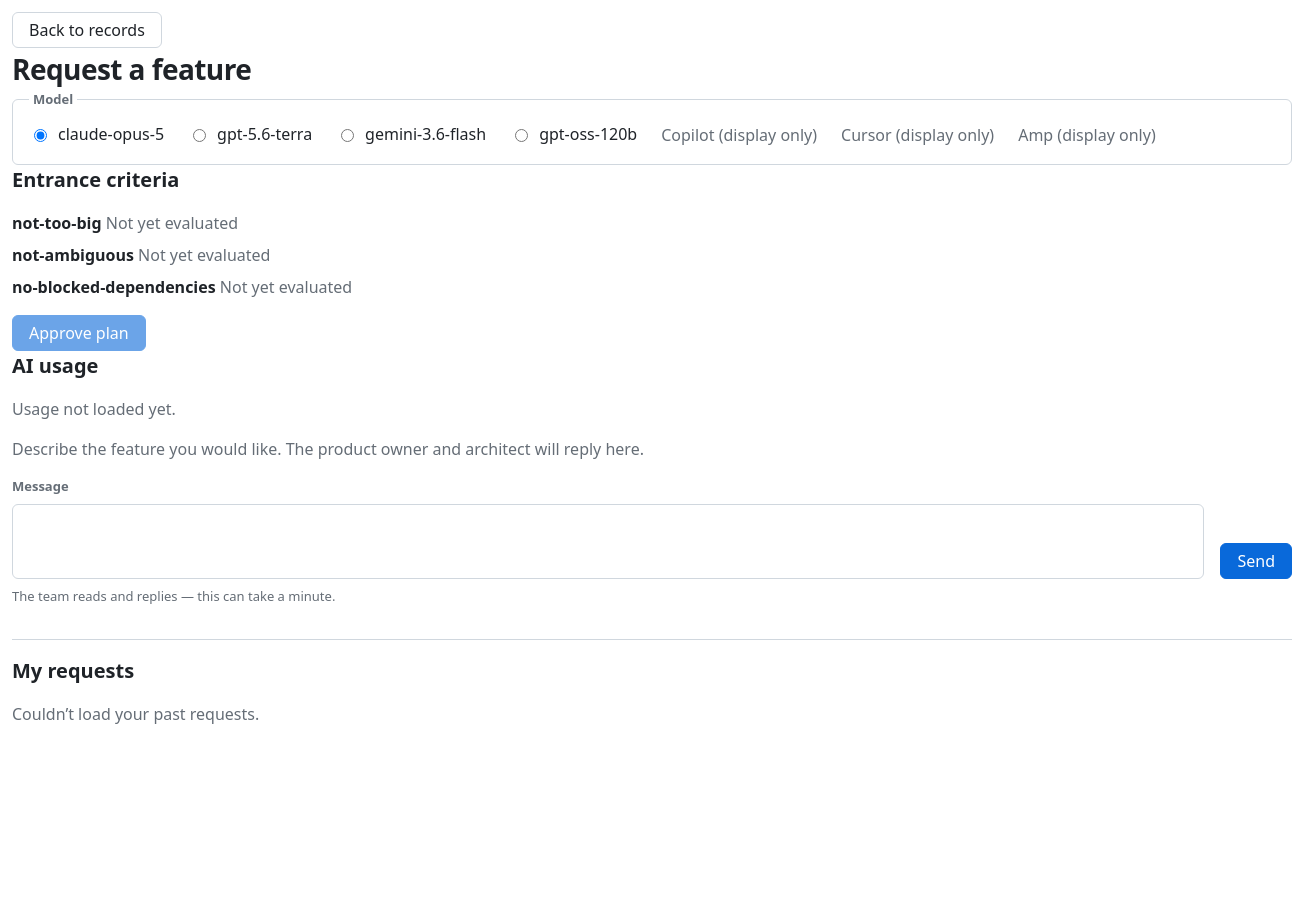
Test case: DAN-76 tester · generic approval failure › shows the exact required copy in a role="alert" panel inside the entrance-criteria region
Type "Add a export button" into the text box labelled "Message".
click(608, 542); type("Add a export button")  # box [12,504,1204,579]
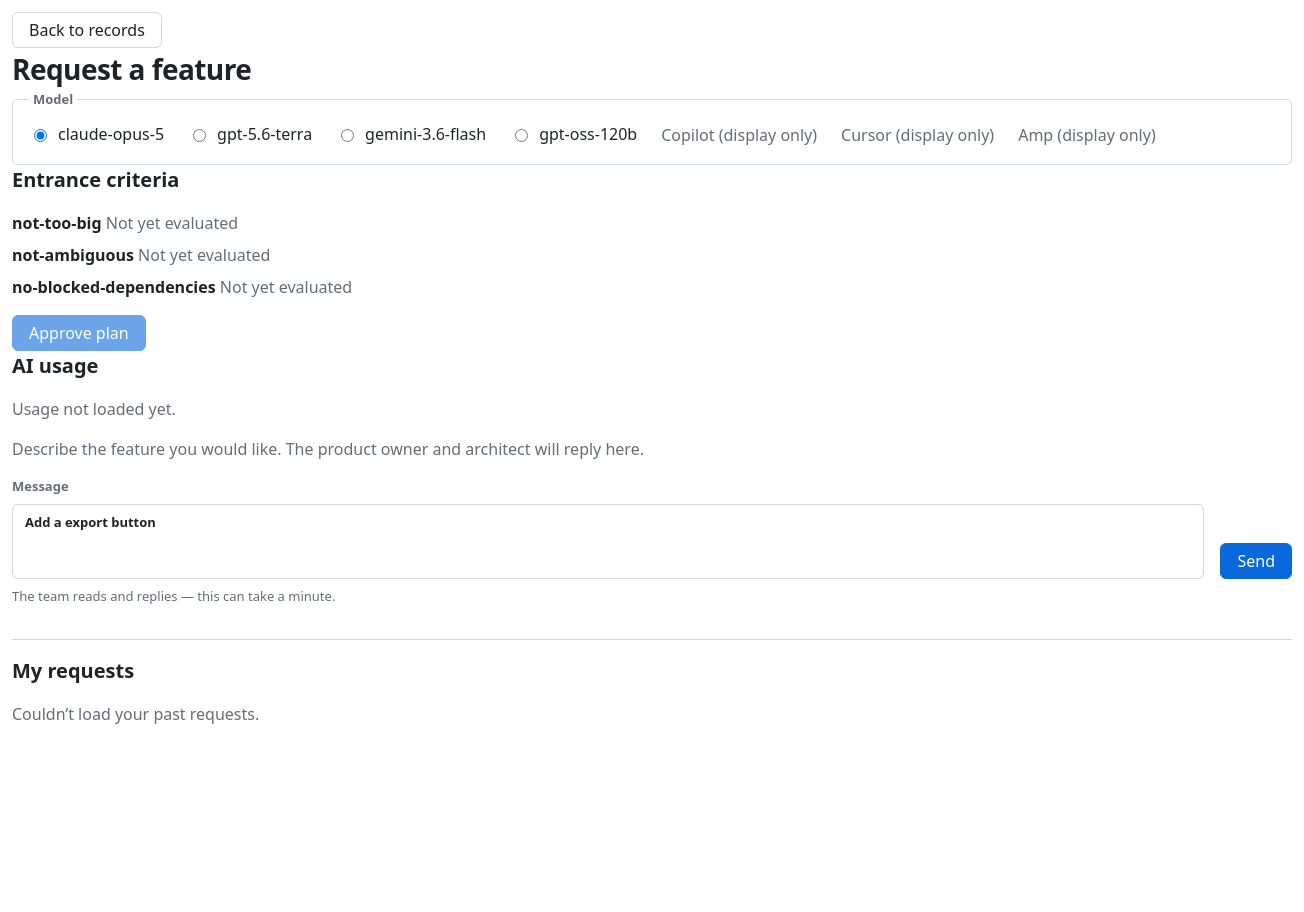
Click the button "Send".
click(1256, 561)  # box [1220,543,1292,579]
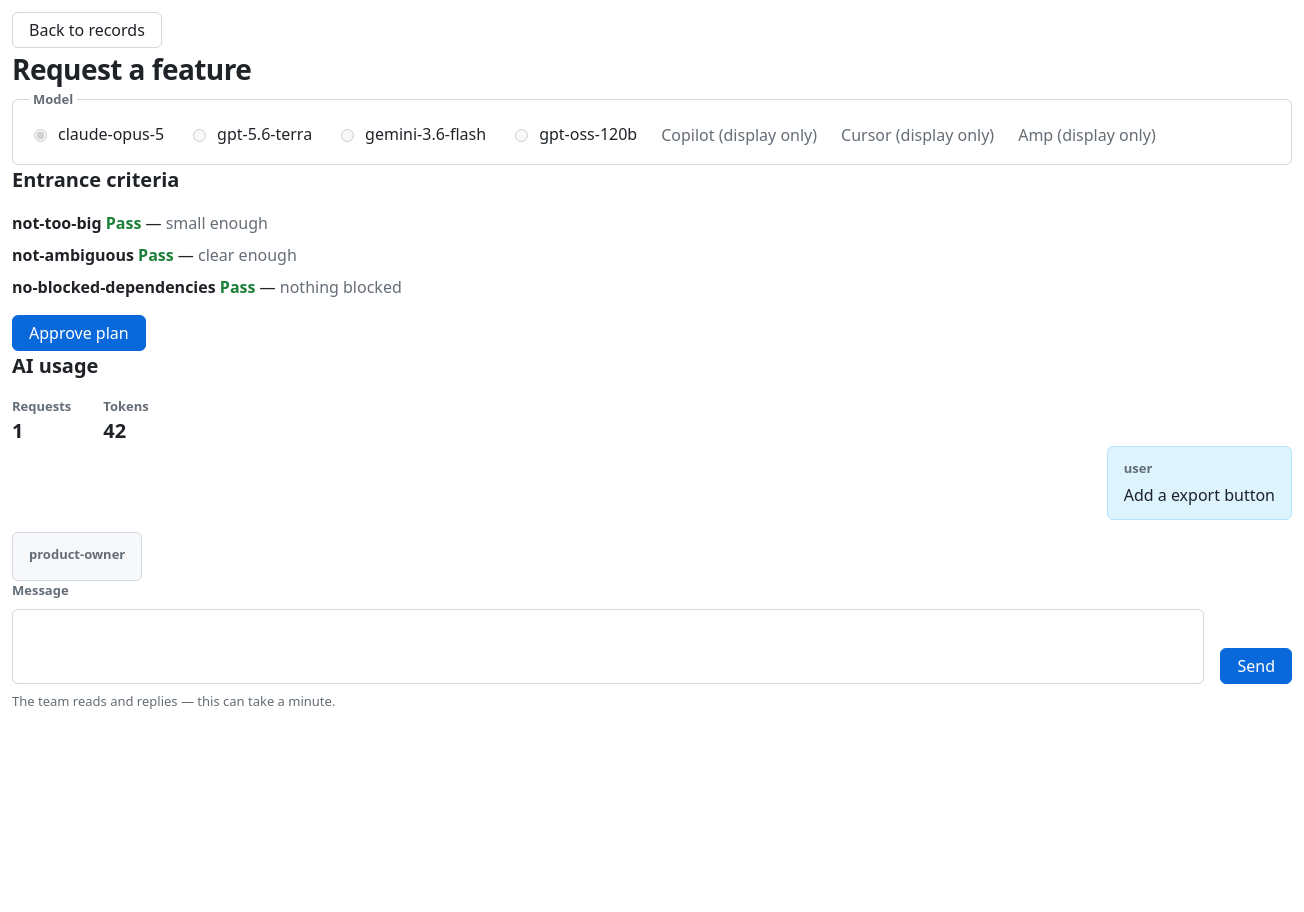
Expected: the button "Approve plan" is enabled
Click the button "Approve plan".
click(79, 332)  # box [12,314,146,350]
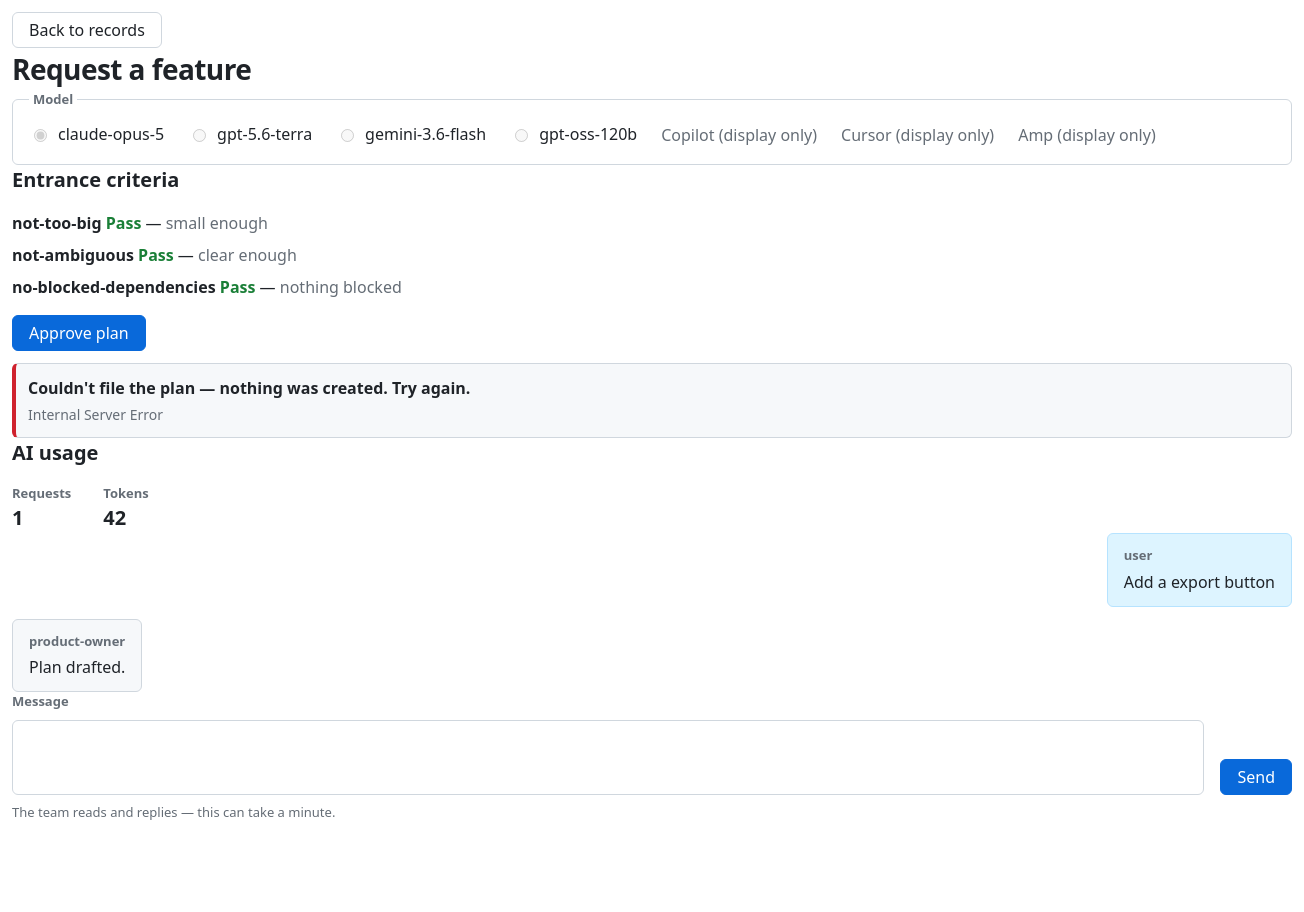
Expected: the message shows "Couldn't file the plan — nothing was created. Try again.", [28,376,470,398]
Expected: the number of messages is 1, [12,362,1292,438]
